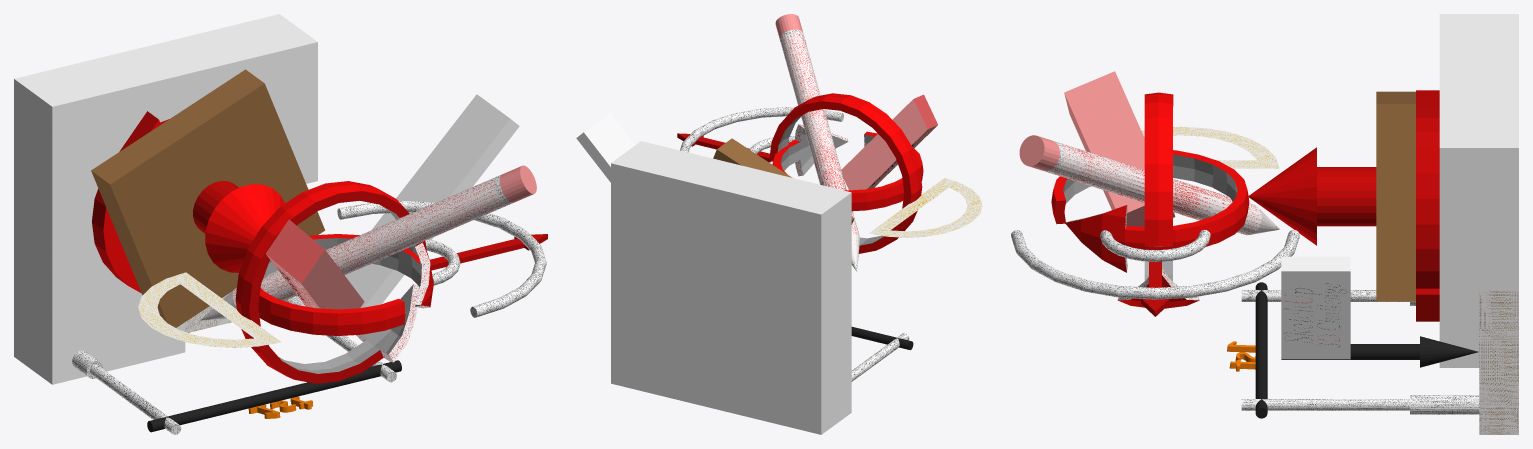
3 views of the same model, side by side, from view 1: azimuth 30°, elevation 25°; view 2: azimuth 150°, elevation 25°; view 3: azimuth 270°, elevation 25° (orthographic). The views are drawn at different scales.
Parts seen in each view (by area): view 1: a sketchup tools trophy; view 2: a sketchup tools trophy; view 3: a sketchup tools trophy.
Part boxes in pixels (x1=…): a sketchup tools trophy: x1=14, y1=14, x2=547, y2=434; a sketchup tools trophy: x1=576, y1=14, x2=982, y2=434; a sketchup tools trophy: x1=1011, y1=14, x2=1518, y2=434.
Bounding box in the file's own units: 99.02 × 66.53 × 101.
